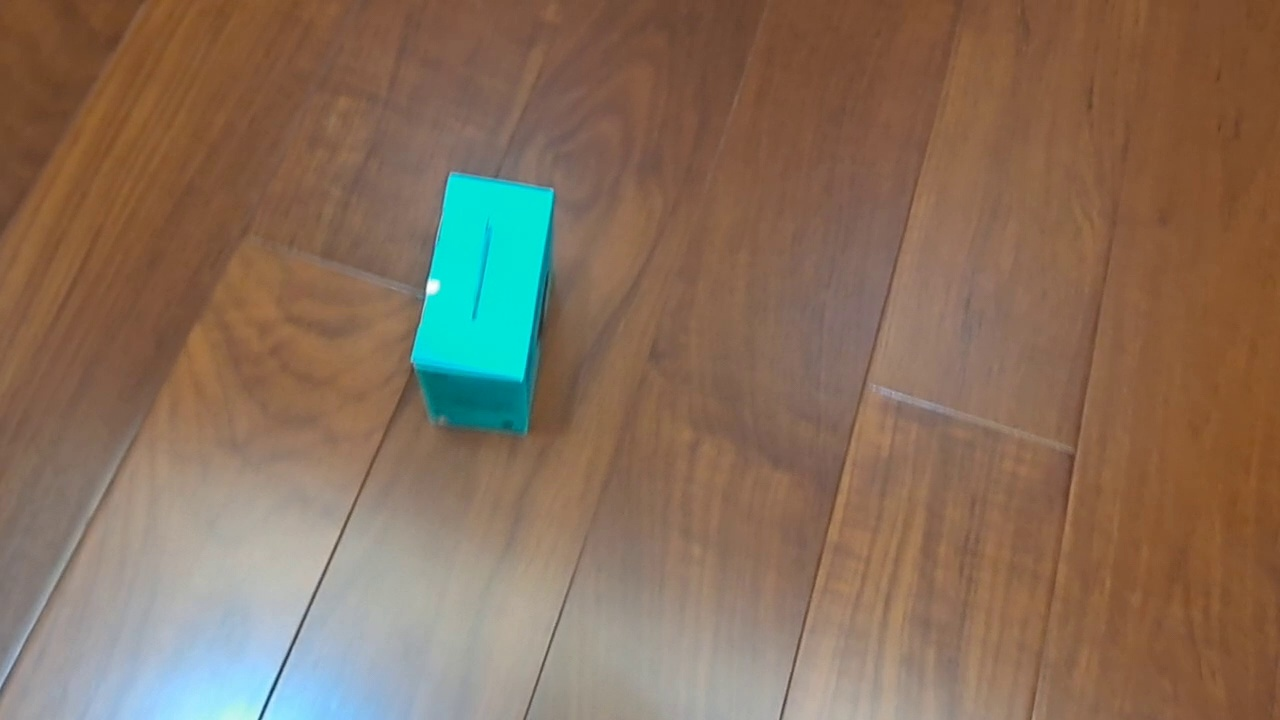webcam: (410, 171, 556, 436)
